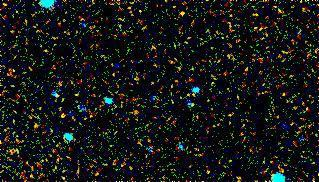star: (170, 0, 200, 23)
